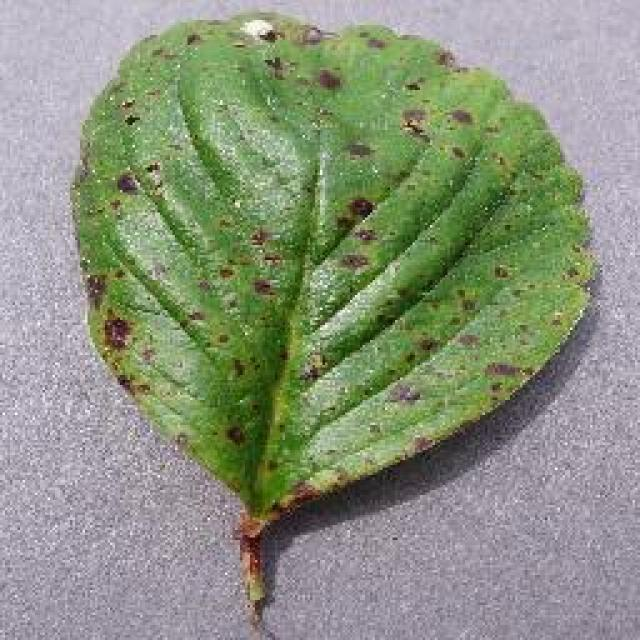Strawberry leaf scorch: (155, 40, 447, 320)
